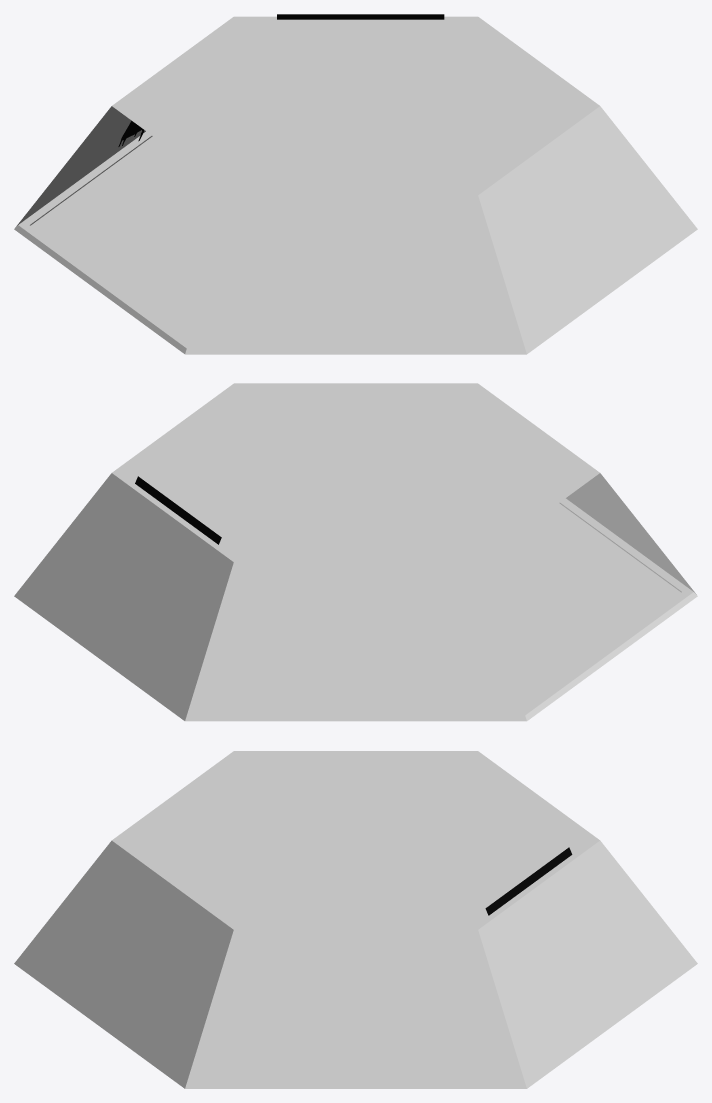
The model's file is RoomWithFlatClockAndFlatThrone.fbx.
3 views of the same model, one above another, from view 1: azimuth 30°, elevation 25°; view 2: azimuth 150°, elevation 25°; view 3: azimuth 270°, elevation 25° (orthographic).
Visible parts, largest first — view 1: ROOM, clock; view 2: ROOM, clock; view 3: ROOM, clock.
Boxes of the visible parts, box(x1,y1,x2,y2) form: ROOM: box(14, 16, 697, 354); clock: box(277, 14, 444, 19); ROOM: box(14, 383, 697, 721); clock: box(135, 476, 221, 544); ROOM: box(14, 751, 697, 1088); clock: box(485, 847, 572, 915).
Size of the model in its own units: 2155 by 548 by 2488.
